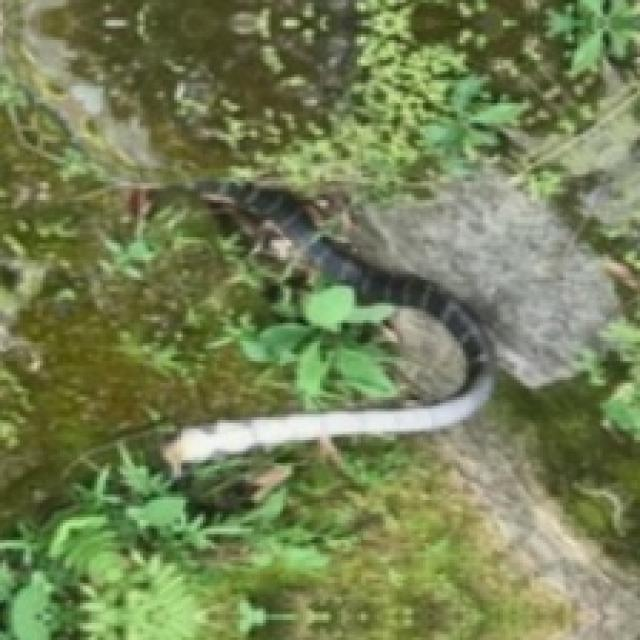king cobra: (0, 0, 489, 474)
